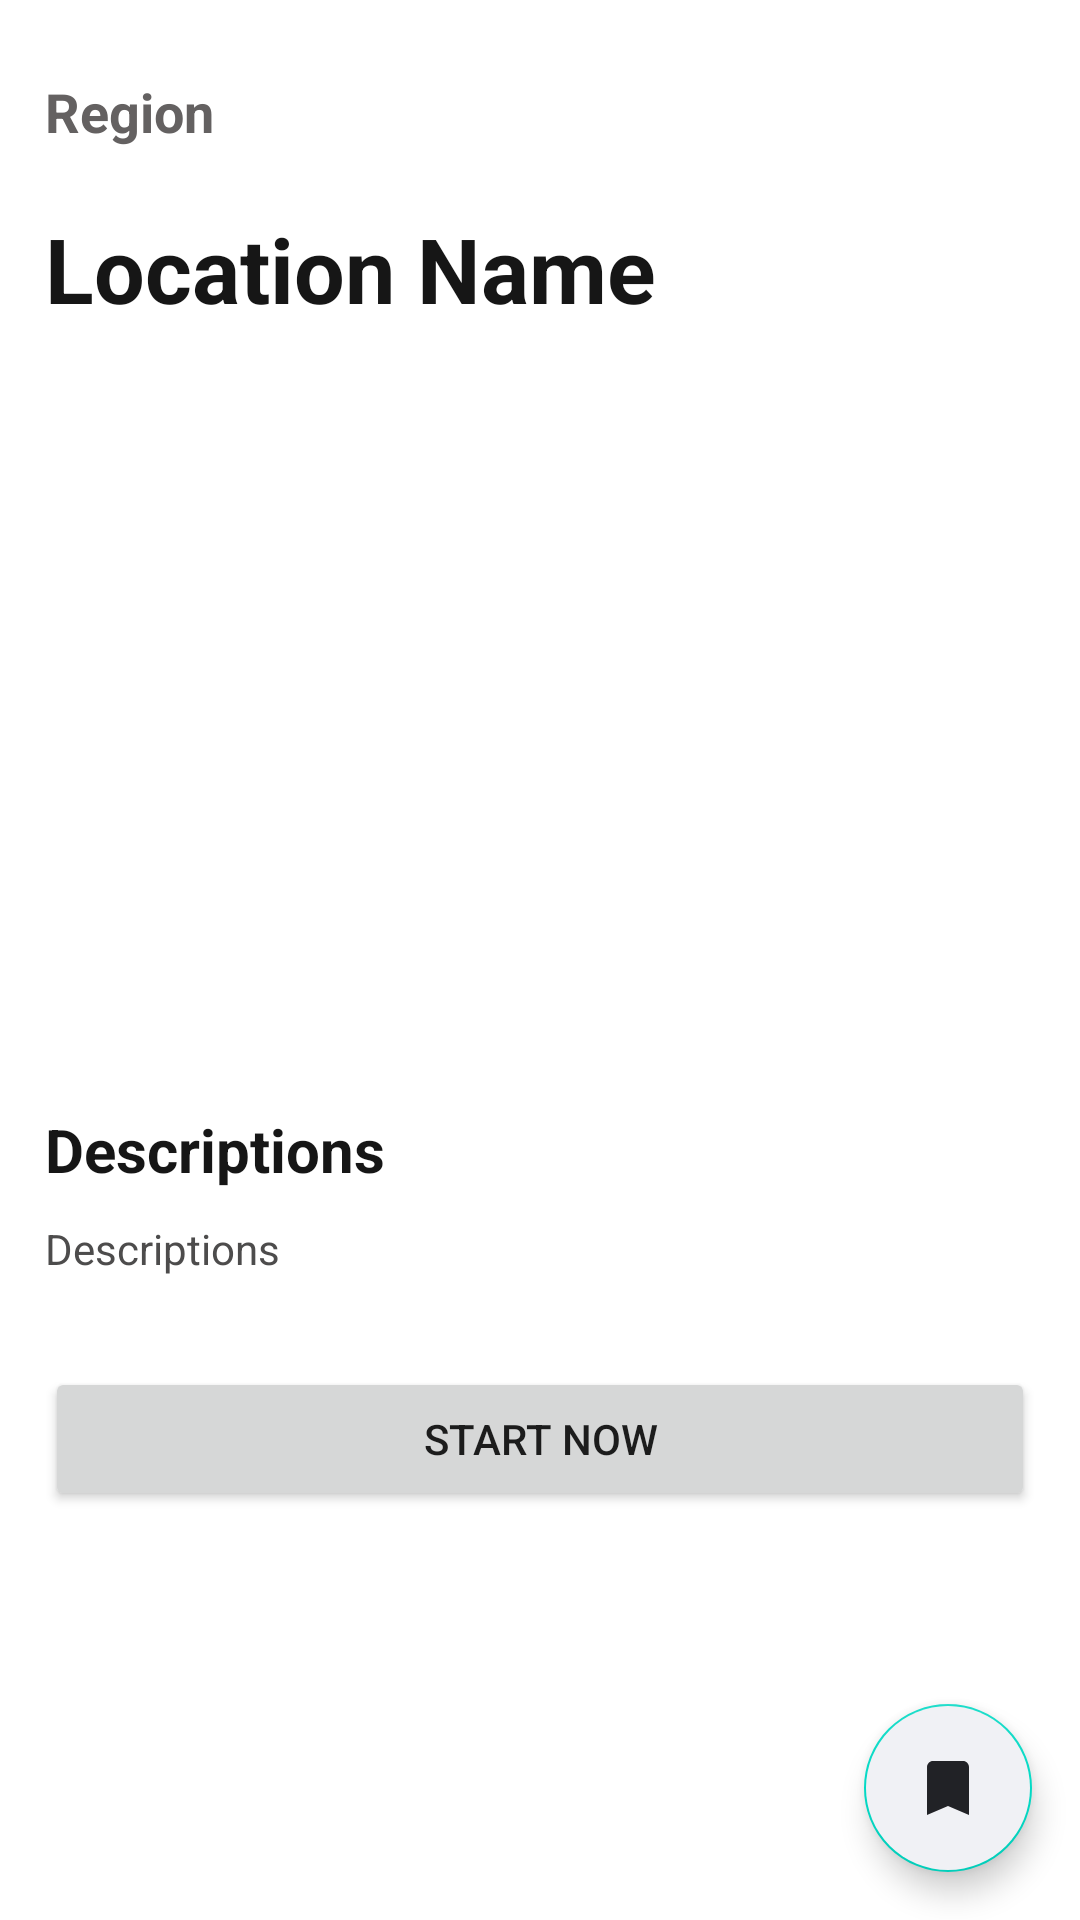

Named icons in this screenshot (1080w x 1920h) and their centers, [x,y]:
add to saved: [948,1788]
